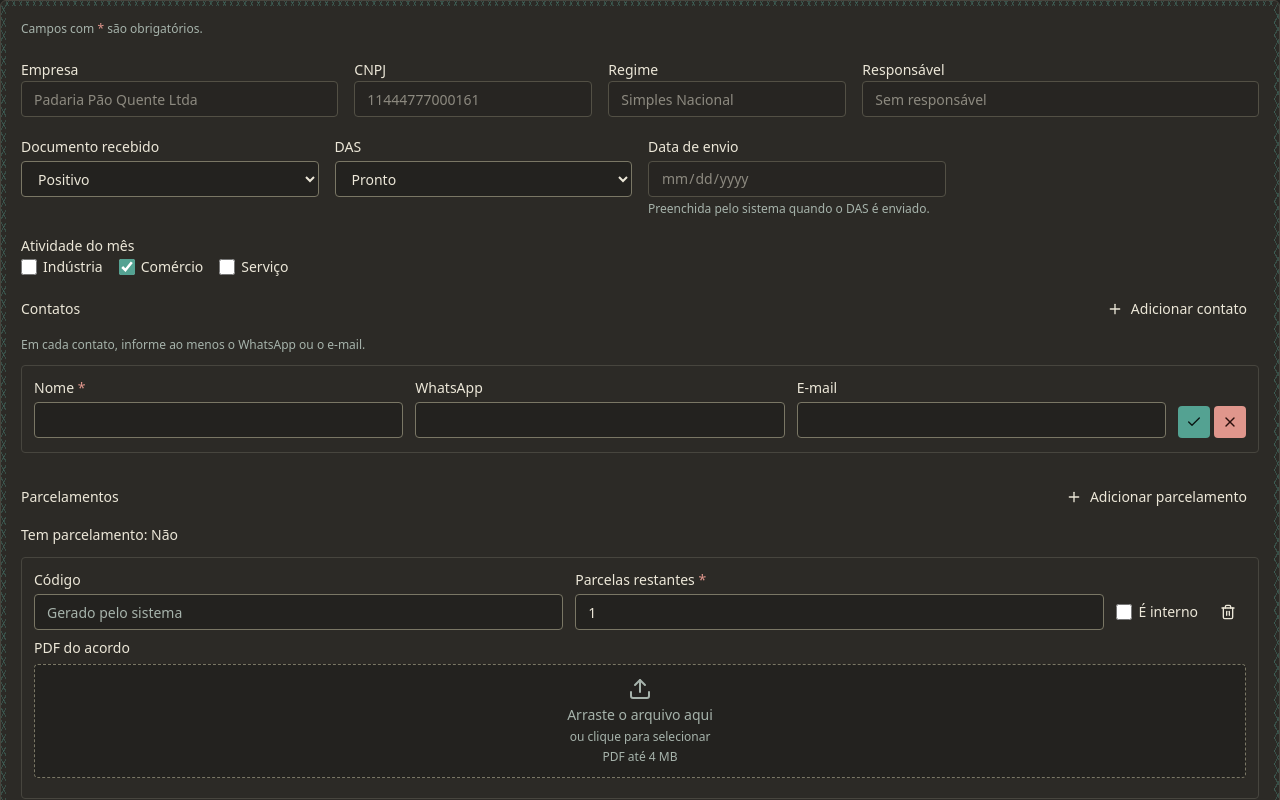
Test case: EditarCadastroOperacionalContainer › contato novo tem Salvar e Cancelar; Salvar grava só ele e a linha passa a ter a lixeira
Step 1. Type "Joana" into the field labelled "Nome *" → (219, 420), box [34, 402, 403, 438]
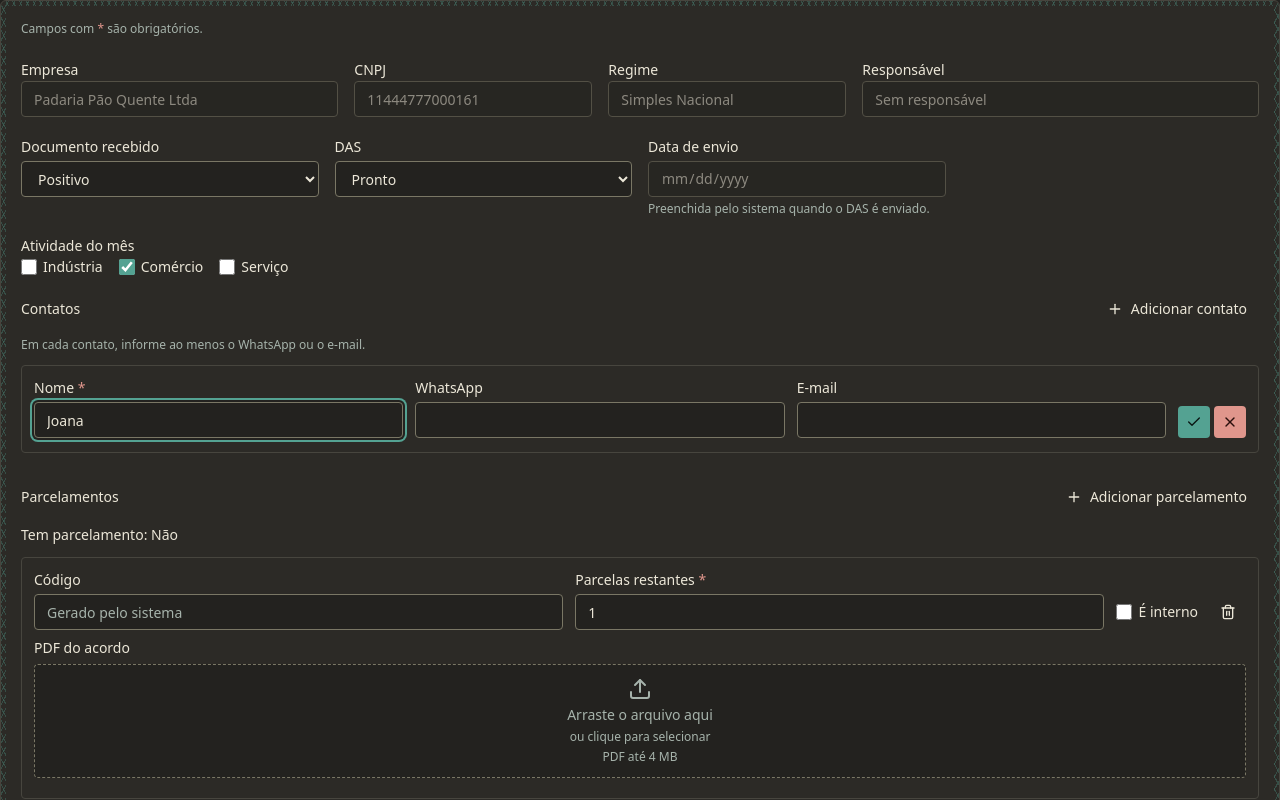
Step 2. Type "joana@exemplo.com" into the field labelled "E-mail" → (981, 420), box [797, 402, 1166, 438]
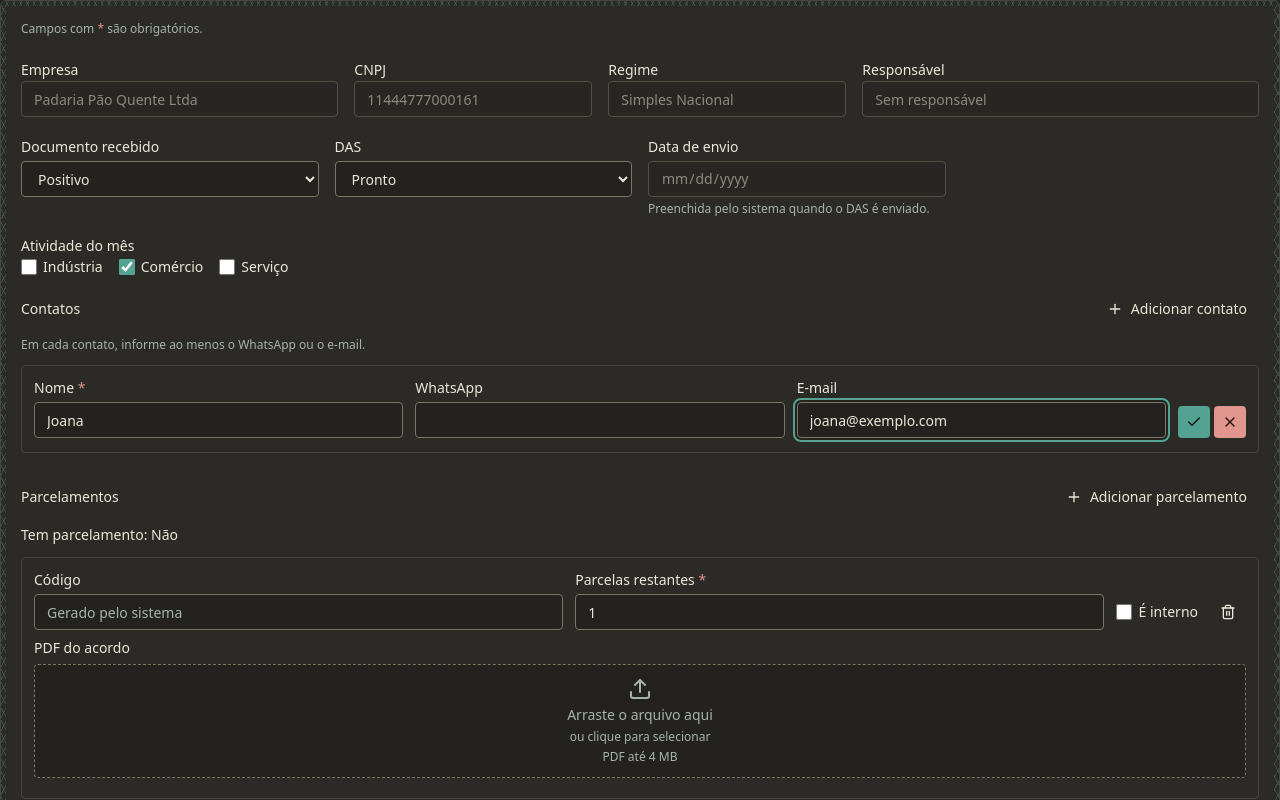
Step 3. Click the button named "Salvar contato 1" → (1194, 422), box [1178, 406, 1210, 438]
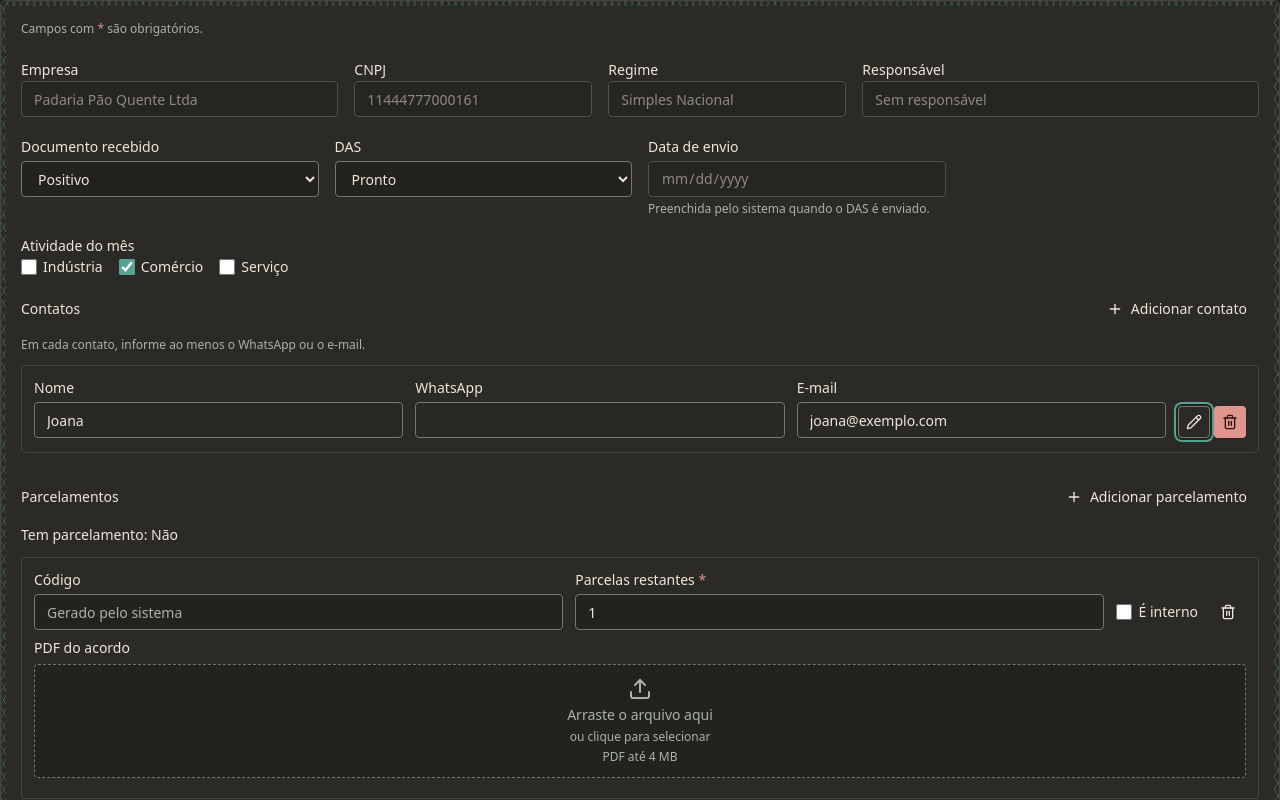
Check: the button named "Remover contato 1" is shown, box [1214, 406, 1246, 438]
